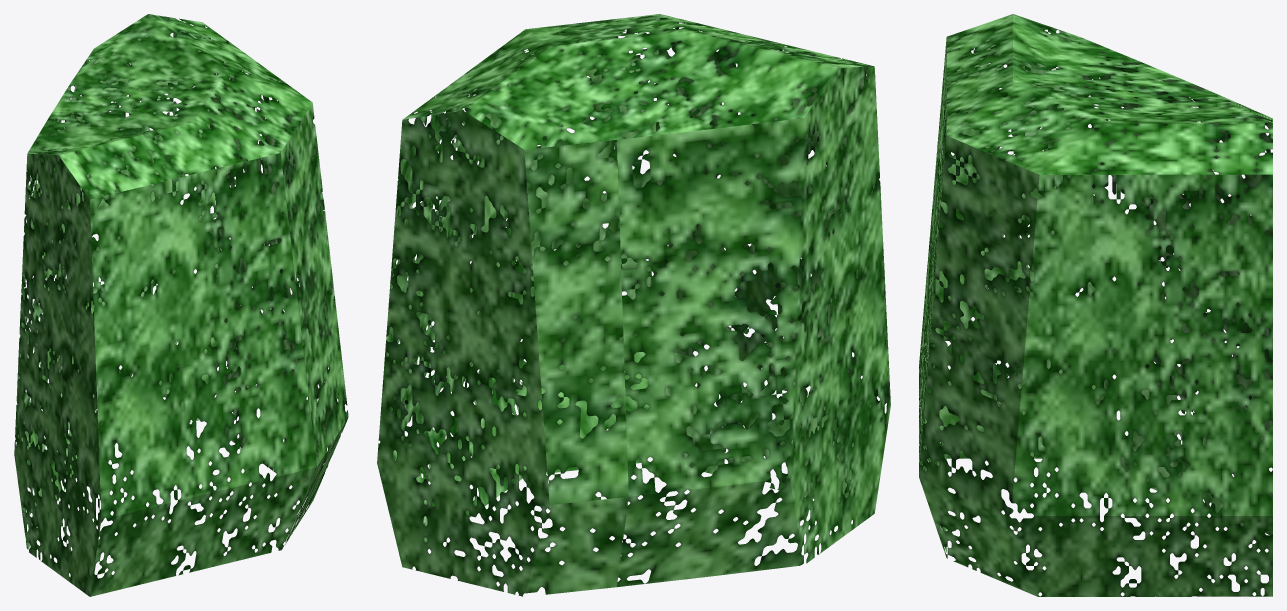
Rendered from bush_long_round_corner_filled_spring.fbx.
The picture shows the model from 3 angles, left to right: view 1: azimuth 30°, elevation 25°; view 2: azimuth 150°, elevation 25°; view 3: azimuth 270°, elevation 25°; orthographic projection. The views are drawn at different scales.
Parts seen in each view (by area): view 1: bush_long_round_corner_filled_spring; view 2: bush_long_round_corner_filled_spring; view 3: bush_long_round_corner_filled_spring.
Part boxes in pixels (x1,y1,x2,y2): bush_long_round_corner_filled_spring: (14, 14, 348, 596); bush_long_round_corner_filled_spring: (377, 14, 890, 596); bush_long_round_corner_filled_spring: (919, 14, 1272, 596).
Size of the model in its own units: 136 by 188 by 135.
Materials: 1 (1 with a texture image).
